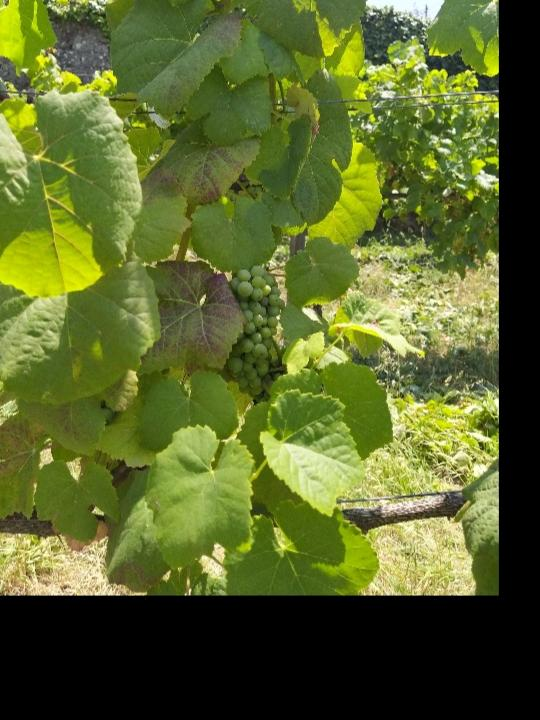grape: (222, 262, 286, 399)
